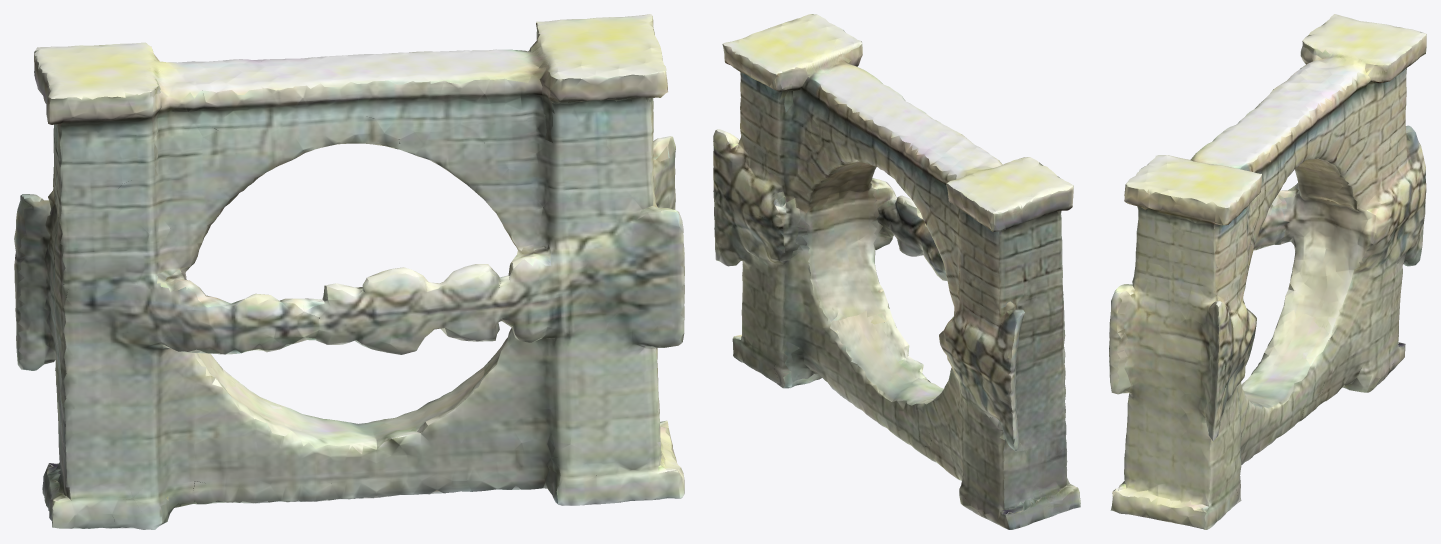
The model's file is a-stone-bridge.glb.
The picture shows the model from 3 angles, left to right: view 1: azimuth 30°, elevation 25°; view 2: azimuth 150°, elevation 25°; view 3: azimuth 270°, elevation 25°; orthographic projection. The views are drawn at different scales.
Visible parts, largest first — view 1: world; view 2: world; view 3: world.
Part boxes in pixels (bbox=[...]): world: bbox=[14, 14, 684, 529]; world: bbox=[713, 14, 1080, 529]; world: bbox=[1109, 14, 1426, 529].
Size of the model in its own units: 1.03 by 0.7885 by 0.665.
Materials: 1 (1 with a texture image).
